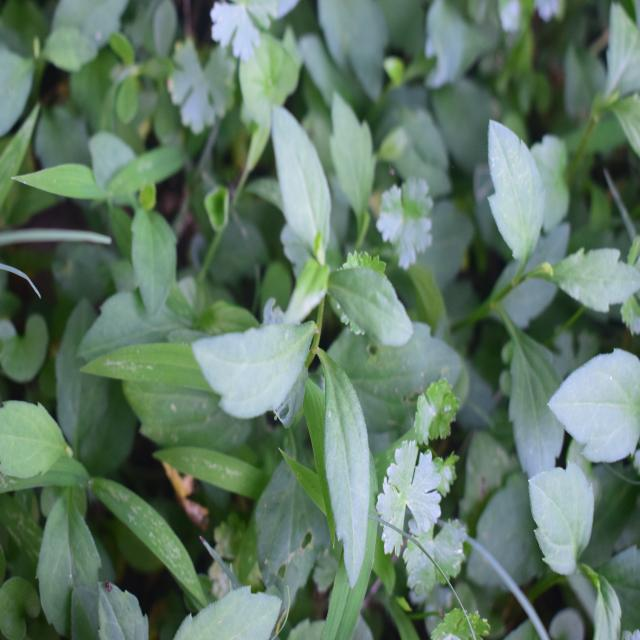Indian aster: (467, 122, 640, 554)
